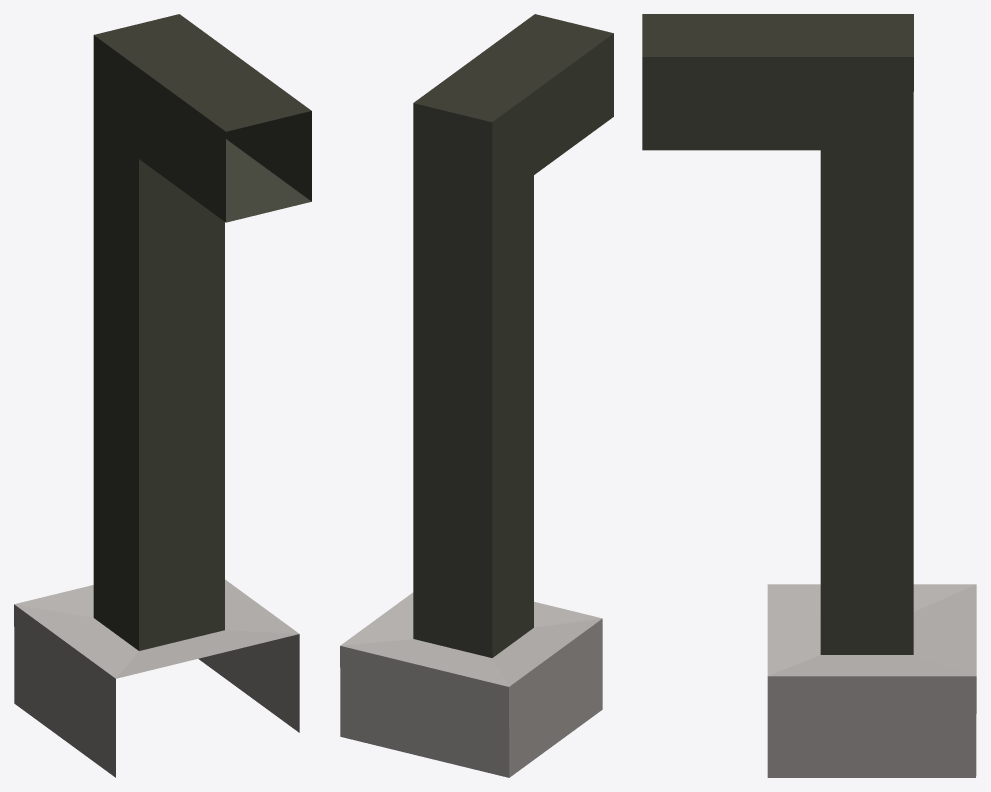
File: Pipe.fbx
3 renders of one model, left to right at view 1: azimuth 30°, elevation 25°; view 2: azimuth 150°, elevation 25°; view 3: azimuth 270°, elevation 25°, orthographic. The views are drawn at different scales.
Parts seen in each view (by area): view 1: Pipe; view 2: Pipe; view 3: Pipe.
Boxes of the visible parts, x1,y1,x2,y2 form: Pipe: [14, 14, 311, 777]; Pipe: [340, 14, 613, 777]; Pipe: [642, 14, 976, 777].
Bounding box in the file's own units: 0.4145 × 1.46 × 0.6368.
